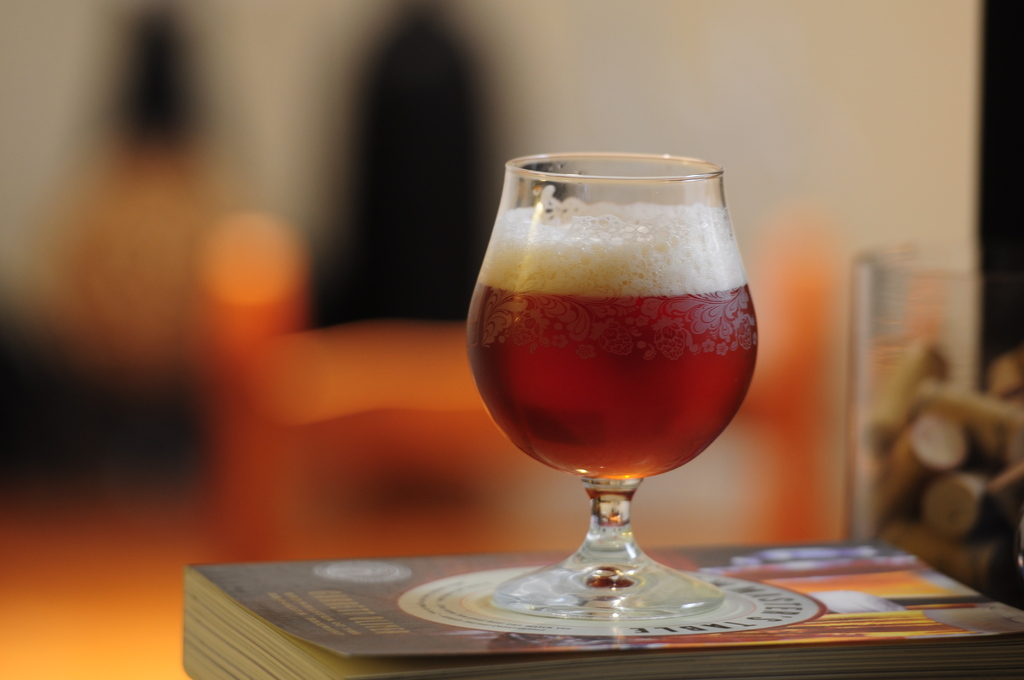Beer: (444, 132, 789, 630)
